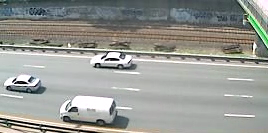car: (58, 91, 121, 127), (89, 49, 135, 72), (2, 74, 44, 94)
